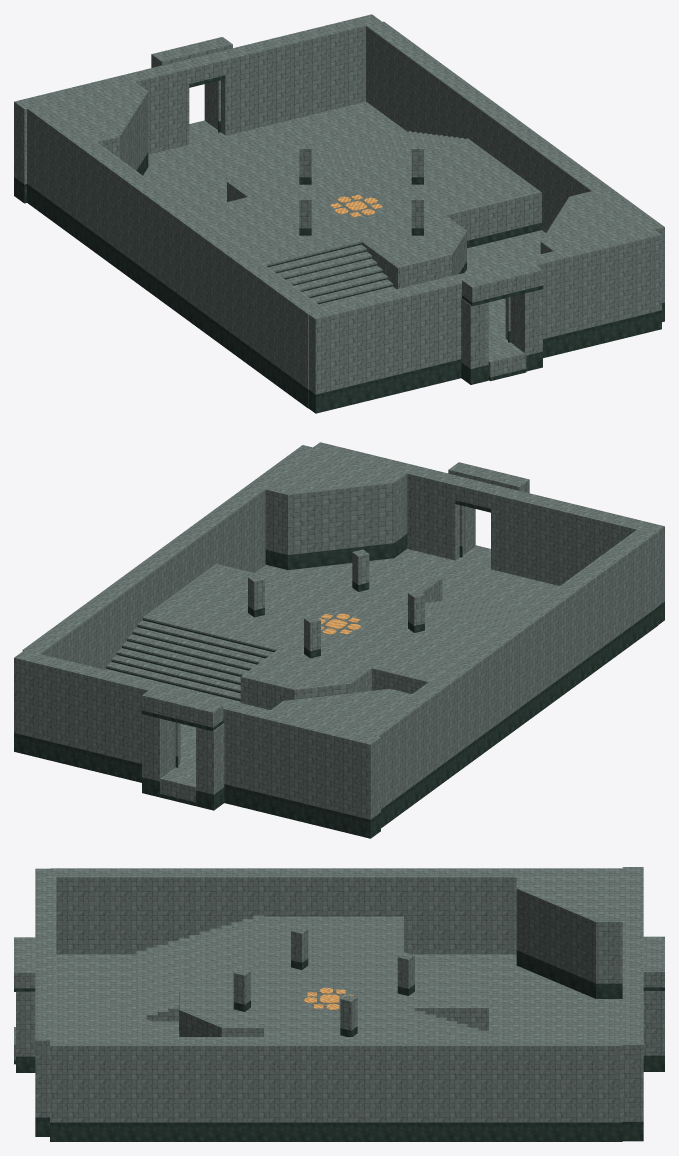
The model's file is hallminiboss.glb.
3 renders of one model, top to bottom at view 1: azimuth 30°, elevation 25°; view 2: azimuth 150°, elevation 25°; view 3: azimuth 270°, elevation 25°, orthographic. The views are drawn at different scales.
Visible parts, largest first — view 1: block (×15), block_corner_large (×2), stairs (×4), block_corner_small (×2), columns_large (×2), floor_detail; view 2: block (×16), block_corner_large (×2), stairs (×4), block_corner_small (×2), columns_large (×2); view 3: block (×15), block_corner_large (×2), stairs (×3), block_corner_small (×2), columns_large (×2), floor_detail.
Part boxes in pixels (x1,y1,x2,y2): block (×15): (14, 14, 664, 413); block_corner_large (×2): (45, 82, 643, 253); stairs (×4): (260, 131, 472, 307); block_corner_small (×2): (227, 149, 466, 284); columns_large (×2): (299, 143, 423, 235); floor_detail: (330, 194, 382, 217); block (×16): (14, 442, 664, 838); block_corner_large (×2): (265, 451, 411, 731); stairs (×4): (105, 597, 523, 702); block_corner_small (×2): (258, 565, 423, 710); columns_large (×2): (248, 549, 424, 658); block (×15): (14, 867, 664, 1141); block_corner_large (×2): (56, 877, 622, 1036); stairs (×3): (136, 915, 467, 1036); block_corner_small (×2): (179, 963, 488, 1036); columns_large (×2): (233, 926, 414, 1036); floor_detail: (304, 988, 354, 1009).
Size of the model in its own units: 19.95 by 5.2 by 30.69.
Materials: 65 (65 with a texture image).
